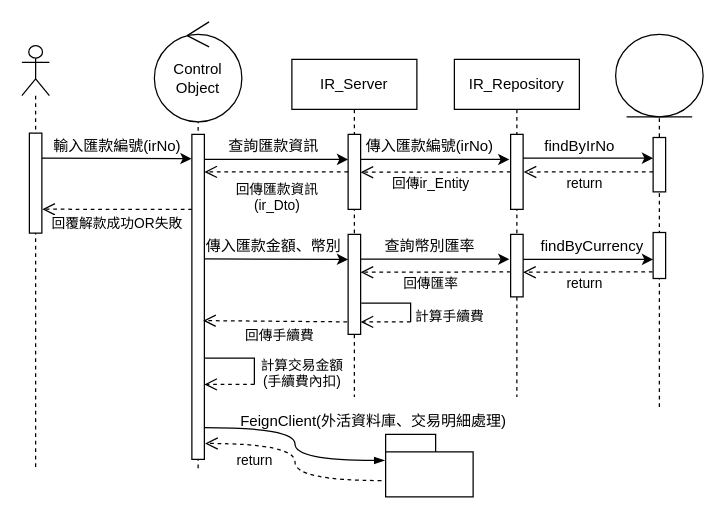
Some shapes in this 725 by 519 pixel diagram are drawn without their labels. Each missing label, with the centre of its shape:
FP_API: point 428,465
IR_Entity Object: point 658,75
